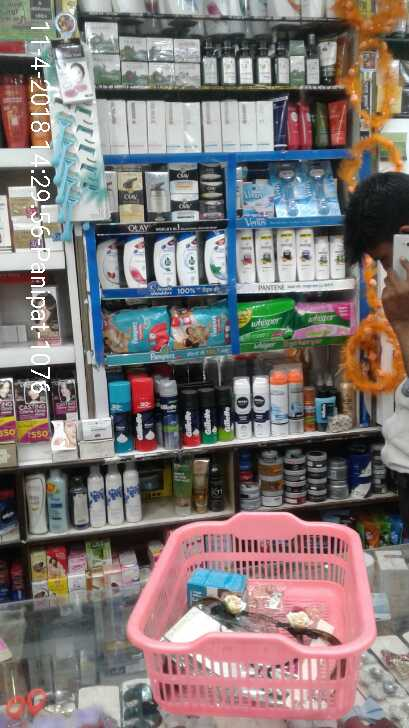venus: (51, 111, 85, 241), (308, 162, 341, 215), (275, 165, 307, 215), (241, 182, 274, 216)
